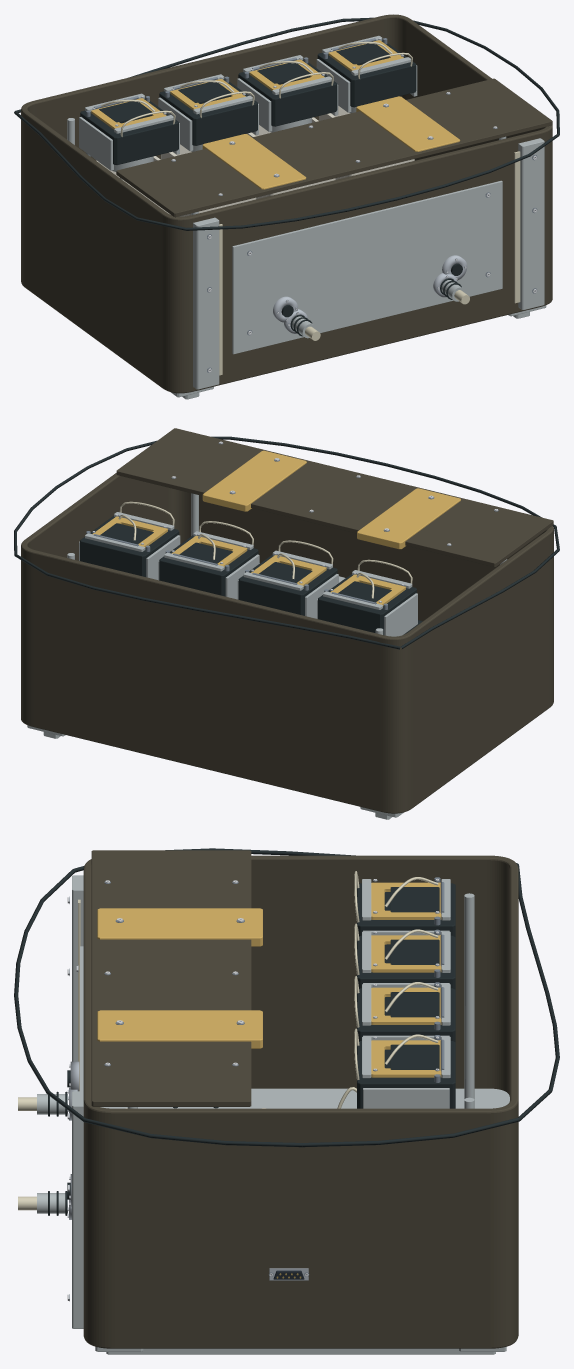
Rendered from phoenix-meca.glb.
The picture shows the model from 3 angles, top to bottom: view 1: azimuth 30°, elevation 25°; view 2: azimuth 150°, elevation 25°; view 3: azimuth 270°, elevation 25°; orthographic projection. The views are drawn at different scales.
Parts seen in each view (by area): view 1: MECA_CHASSIS_Phoenix_MECA_anodized_housing, MECA_CHASSIS_SERVICE_PANEL_Phoenix_machined_aluminium, MECA_CHASSIS_COVER_Phoenix_MECA_anodized_housing, MECA_PHOTO_FITTED_MOUNTS_Phoenix_machined_aluminium, MECA_CHASSIS_COVER_Phoenix_gold_multilayer_thermal_blanket, MECA_CHASSIS_GASKET_Phoenix_black_anodized_aluminium, WCL_ENTRY_2_Phoenix_black_anodized_aluminium, WCL_ENTRY_3_Phoenix_black_anodized_aluminium, WCL_ENTRY_0_Phoenix_black_anodized_aluminium, WCL_ENTRY_1_Phoenix_black_anodized_aluminium, MECA_CHASSIS_THERMAL_SEAMS_Phoenix_white_cable_insulation, WCL_DRAWER_GUIDE_0_Phoenix_machined_aluminium (+16 smaller); view 2: MECA_CHASSIS_Phoenix_MECA_anodized_housing, MECA_CHASSIS_COVER_Phoenix_MECA_anodized_housing, MECA_CHASSIS_COVER_Phoenix_gold_multilayer_thermal_blanket, MECA_CHASSIS_GASKET_Phoenix_black_anodized_aluminium, WCL_ENTRY_1_Phoenix_black_anodized_aluminium, WCL_ENTRY_2_Phoenix_black_anodized_aluminium, WCL_ENTRY_3_Phoenix_black_anodized_aluminium, WCL_ENTRY_0_Phoenix_black_anodized_aluminium, WCL_DRAWER_GUIDE_0_Phoenix_machined_aluminium, MECA_CHASSIS_Phoenix_machined_aluminium, WCL_ENTRY_1_Phoenix_gold_multilayer_thermal_blanket, WCL_ENTRY_2_Phoenix_gold_multilayer_thermal_blanket (+13 smaller); view 3: MECA_CHASSIS_Phoenix_MECA_anodized_housing, MECA_CHASSIS_COVER_Phoenix_MECA_anodized_housing, MECA_CHASSIS_COVER_Phoenix_gold_multilayer_thermal_blanket, MECA_CHASSIS_Phoenix_machined_aluminium, MECA_CHASSIS_GASKET_Phoenix_black_anodized_aluminium, MECA_PHOTO_FITTED_MOUNTS_Phoenix_machined_aluminium, MECA_CHASSIS_MOUNT_RAIL_1_Phoenix_machined_aluminium, WCL_DRAWER_GUIDE_3_Phoenix_machined_aluminium, WCL_ENTRY_3_Phoenix_black_anodized_aluminium, WCL_ENTRY_2_Phoenix_black_anodized_aluminium, WCL_ENTRY_1_Phoenix_black_anodized_aluminium, WCL_ENTRY_0_Phoenix_black_anodized_aluminium (+12 smaller).
Boxes of the visible parts, <box> form: MECA_CHASSIS_Phoenix_MECA_anodized_housing: <box>21,14,552,393</box>; MECA_CHASSIS_SERVICE_PANEL_Phoenix_machined_aluminium: <box>232,180,502,354</box>; MECA_CHASSIS_COVER_Phoenix_MECA_anodized_housing: <box>116,78,552,217</box>; MECA_PHOTO_FITTED_MOUNTS_Phoenix_machined_aluminium: <box>193,138,544,389</box>; MECA_CHASSIS_COVER_Phoenix_gold_multilayer_thermal_blanket: <box>202,96,460,189</box>; MECA_CHASSIS_GASKET_Phoenix_black_anodized_aluminium: <box>14,17,559,230</box>; WCL_ENTRY_2_Phoenix_black_anodized_aluminium: <box>238,59,337,126</box>; WCL_ENTRY_3_Phoenix_black_anodized_aluminium: <box>317,39,416,107</box>; WCL_ENTRY_0_Phoenix_black_anodized_aluminium: <box>80,97,178,164</box>; WCL_ENTRY_1_Phoenix_black_anodized_aluminium: <box>159,78,257,145</box>; MECA_CHASSIS_THERMAL_SEAMS_Phoenix_white_cable_insulation: <box>219,151,520,375</box>; WCL_DRAWER_GUIDE_0_Phoenix_machined_aluminium: <box>79,117,179,170</box>; MECA_CHASSIS_Phoenix_MECA_anodized_housing: <box>21,473,553,813</box>; MECA_CHASSIS_COVER_Phoenix_MECA_anodized_housing: <box>116,428,553,567</box>; MECA_CHASSIS_COVER_Phoenix_gold_multilayer_thermal_blanket: <box>202,450,460,549</box>; MECA_CHASSIS_GASKET_Phoenix_black_anodized_aluminium: <box>14,436,559,649</box>; WCL_ENTRY_1_Phoenix_black_anodized_aluminium: <box>238,554,337,615</box>; WCL_ENTRY_2_Phoenix_black_anodized_aluminium: <box>159,535,258,596</box>; WCL_ENTRY_3_Phoenix_black_anodized_aluminium: <box>80,516,179,576</box>; WCL_ENTRY_0_Phoenix_black_anodized_aluminium: <box>318,574,416,635</box>; WCL_DRAWER_GUIDE_0_Phoenix_machined_aluminium: <box>317,593,417,636</box>; MECA_CHASSIS_Phoenix_machined_aluminium: <box>27,493,507,817</box>; WCL_ENTRY_1_Phoenix_gold_multilayer_thermal_blanket: <box>251,555,326,586</box>; WCL_ENTRY_2_Phoenix_gold_multilayer_thermal_blanket: <box>172,535,247,566</box>; MECA_CHASSIS_Phoenix_MECA_anodized_housing: <box>83,855,518,1348</box>; MECA_CHASSIS_COVER_Phoenix_MECA_anodized_housing: <box>91,850,251,1106</box>; MECA_CHASSIS_COVER_Phoenix_gold_multilayer_thermal_blanket: <box>97,908,262,1048</box>; MECA_CHASSIS_Phoenix_machined_aluminium: <box>95,893,509,1351</box>; MECA_CHASSIS_GASKET_Phoenix_black_anodized_aluminium: <box>14,848,559,1147</box>; MECA_PHOTO_FITTED_MOUNTS_Phoenix_machined_aluminium: <box>72,875,83,1328</box>; MECA_CHASSIS_MOUNT_RAIL_1_Phoenix_machined_aluminium: <box>106,1348,495,1354</box>; WCL_DRAWER_GUIDE_3_Phoenix_machined_aluminium: <box>363,1088,449,1108</box>; WCL_ENTRY_3_Phoenix_black_anodized_aluminium: <box>357,1041,455,1108</box>; WCL_ENTRY_2_Phoenix_black_anodized_aluminium: <box>357,988,455,1041</box>; WCL_ENTRY_1_Phoenix_black_anodized_aluminium: <box>357,935,455,989</box>; WCL_ENTRY_0_Phoenix_black_anodized_aluminium: <box>357,883,455,936</box>.
Bounding box in the file's own units: 0.4063 × 0.1794 × 0.3163.
